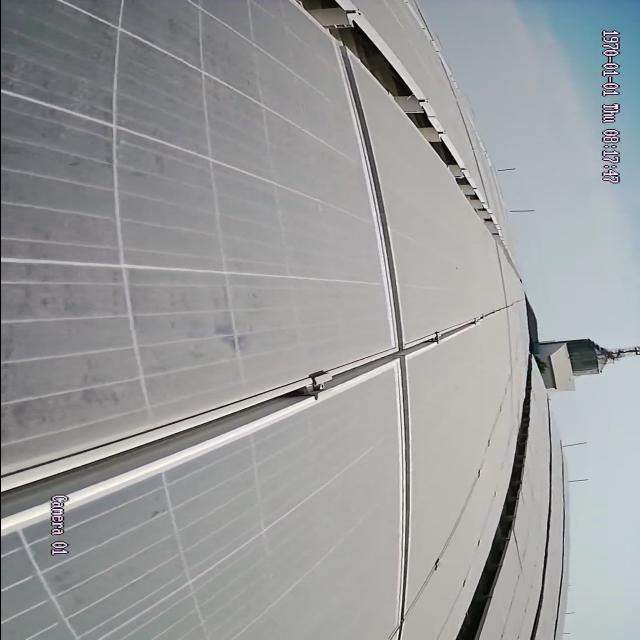interior panel: (16, 309, 500, 527), (339, 69, 409, 339), (385, 373, 416, 632)
outher panel: (289, 1, 488, 223), (453, 387, 533, 636)
